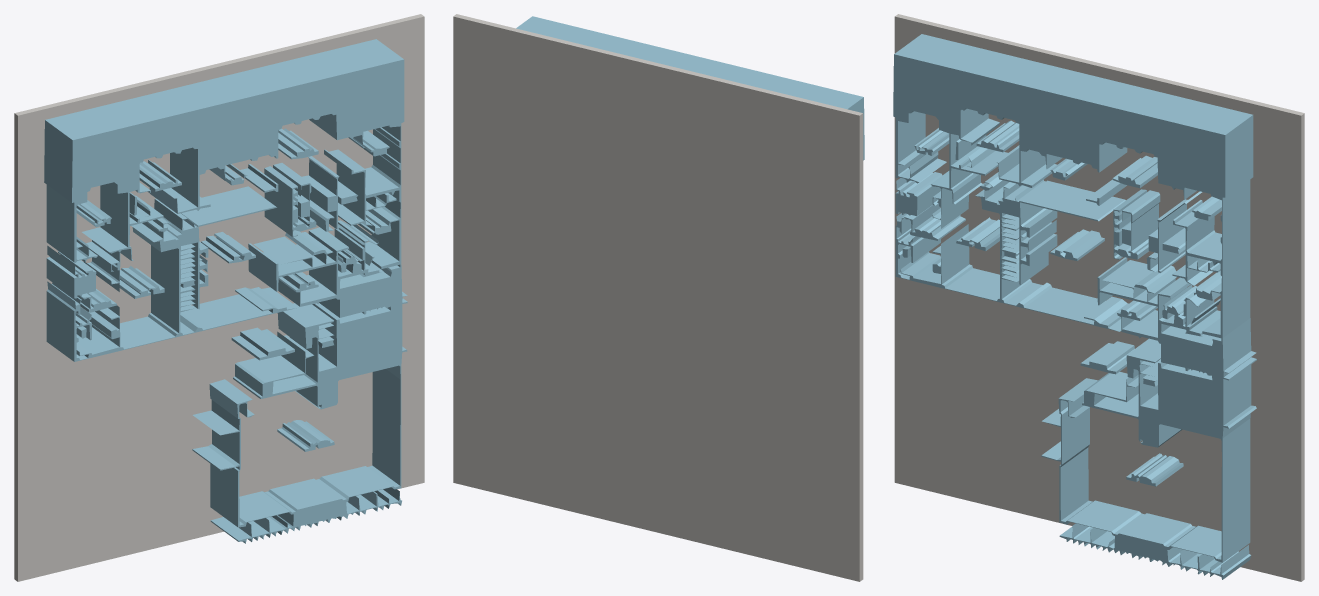
3 views of the same model, side by side, from view 1: azimuth 30°, elevation 25°; view 2: azimuth 150°, elevation 25°; view 3: azimuth 330°, elevation 25° (orthographic).
Visible parts, largest first — view 1: world; view 2: world; view 3: world.
Part boxes in pixels (x1,y1,x2,y2): world: (14,14,424,581); world: (453,14,864,581); world: (893,14,1304,581).
Size of the model in its own units: 10.23 by 11.21 by 1.36.
